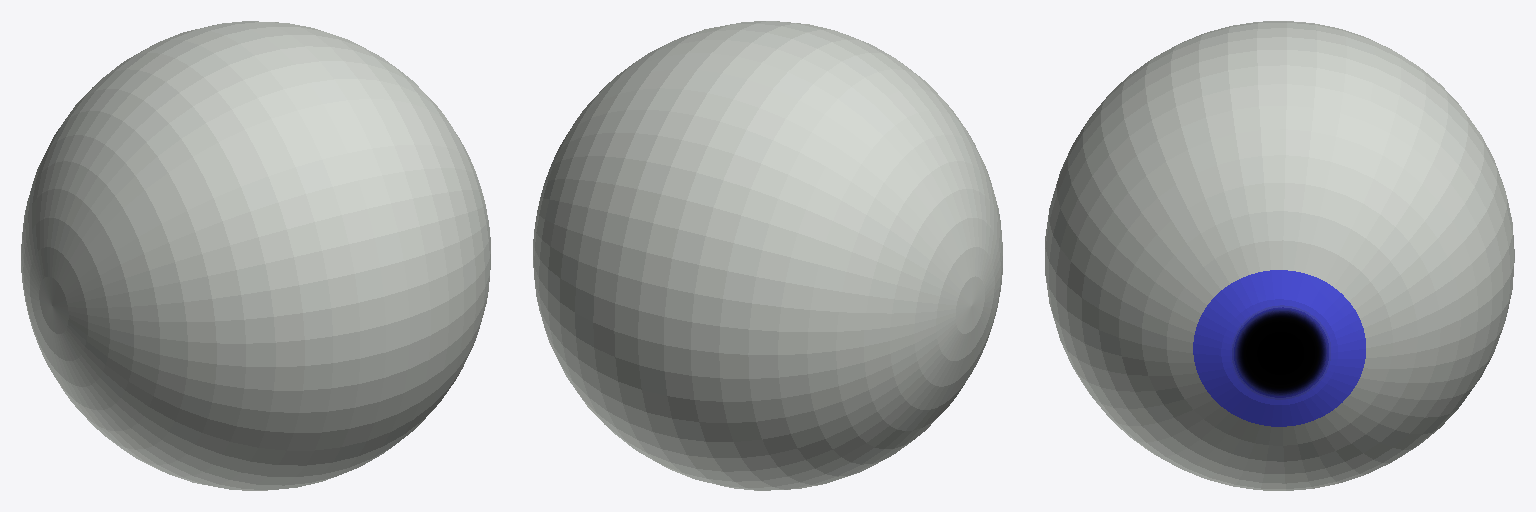
The picture shows the model from 3 angles: view 1: azimuth 30°, elevation 25°; view 2: azimuth 150°, elevation 25°; view 3: azimuth 270°, elevation 25°; orthographic projection.
Visible parts, largest first — view 1: eye; view 2: eye; view 3: eye.
Part boxes in pixels (x1,y1,x2,y2): eye: (21, 21, 490, 490); eye: (533, 21, 1002, 490); eye: (1045, 21, 1514, 490).
Size of the model in its own units: 4.19 by 4.18 by 4.18.
Materials: 1 (1 with a texture image).